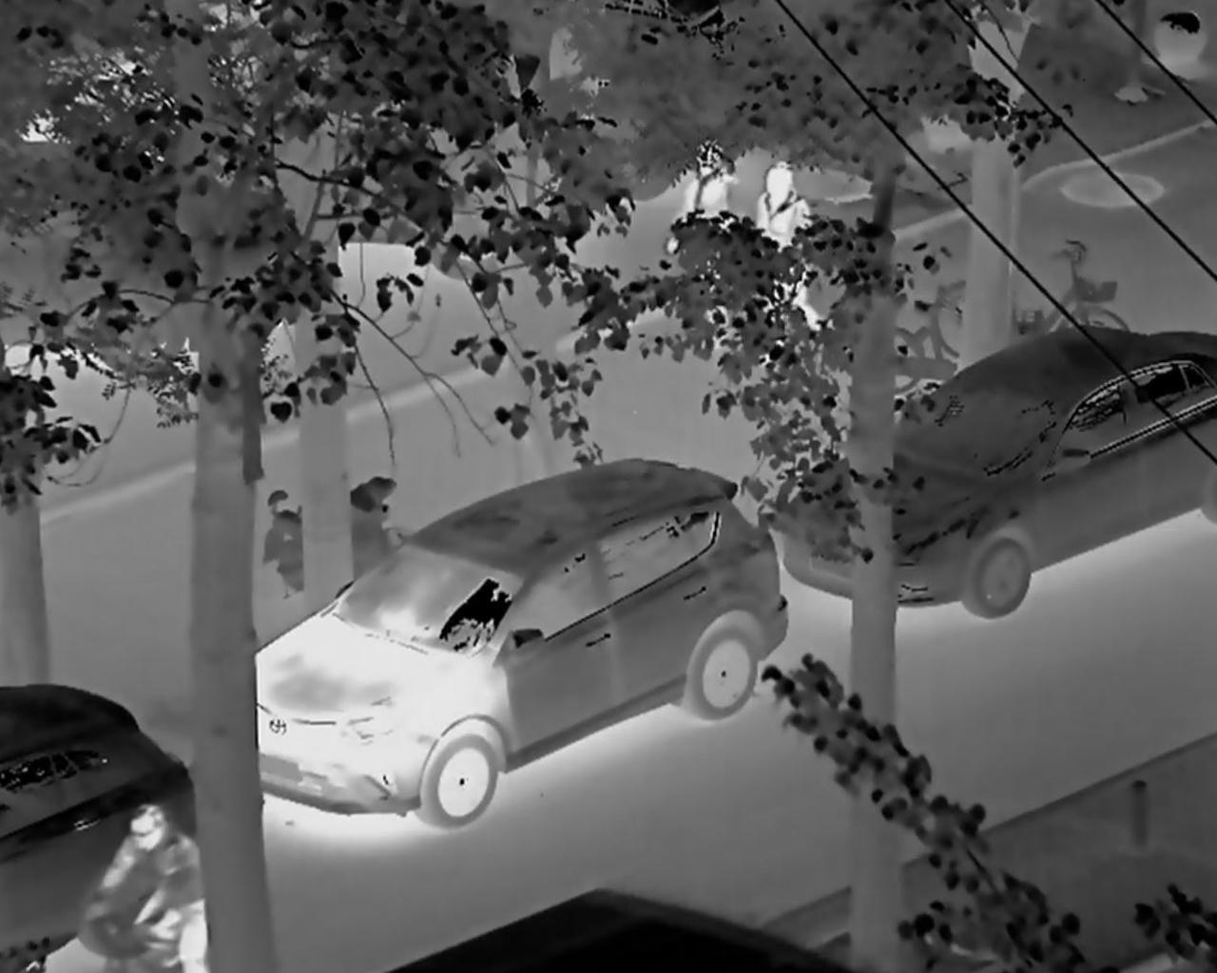person: (85, 793, 219, 973), (746, 155, 844, 395), (666, 128, 743, 287)
